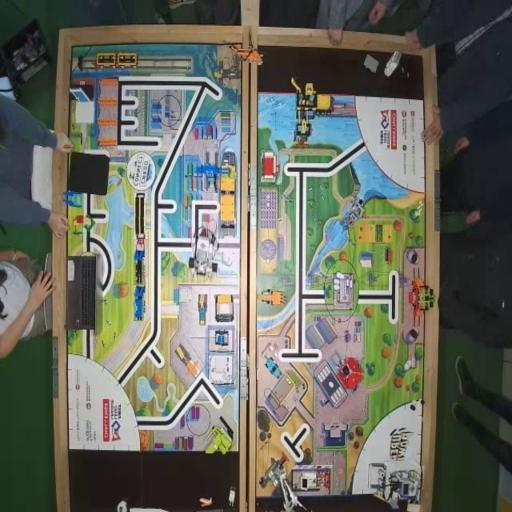lego_robot: (368, 462, 423, 511), (188, 220, 219, 278)
